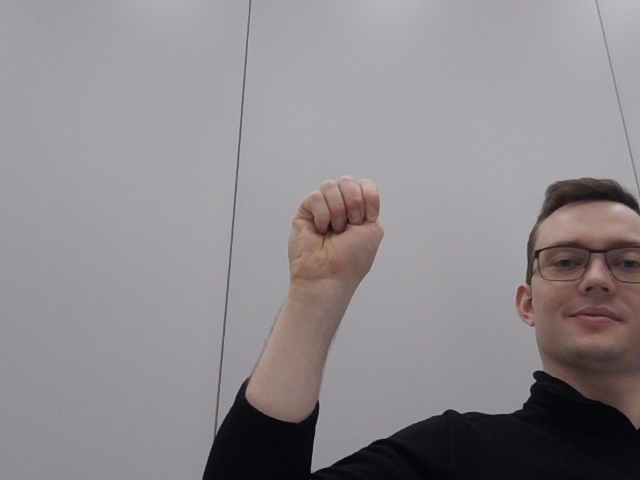down: (261, 166, 396, 301)
